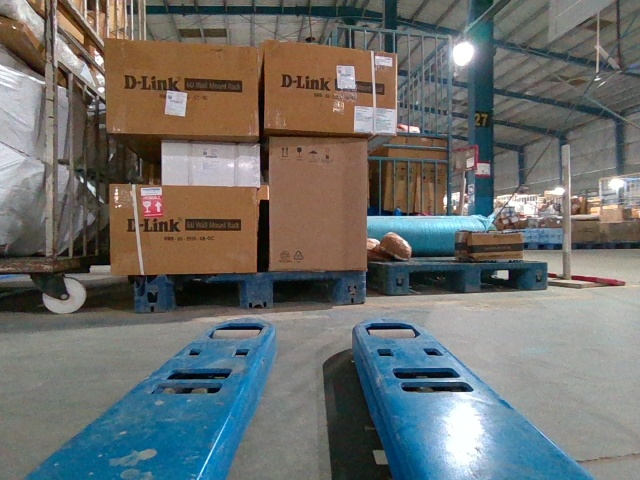block: (131, 275, 177, 313), (368, 262, 411, 296), (240, 274, 275, 310), (336, 270, 368, 305), (507, 263, 548, 289), (459, 265, 481, 293)
front: (131, 270, 367, 315), (386, 263, 547, 295)
hole pallet: (175, 281, 243, 308), (276, 281, 335, 307), (411, 272, 465, 293), (481, 270, 528, 289)
